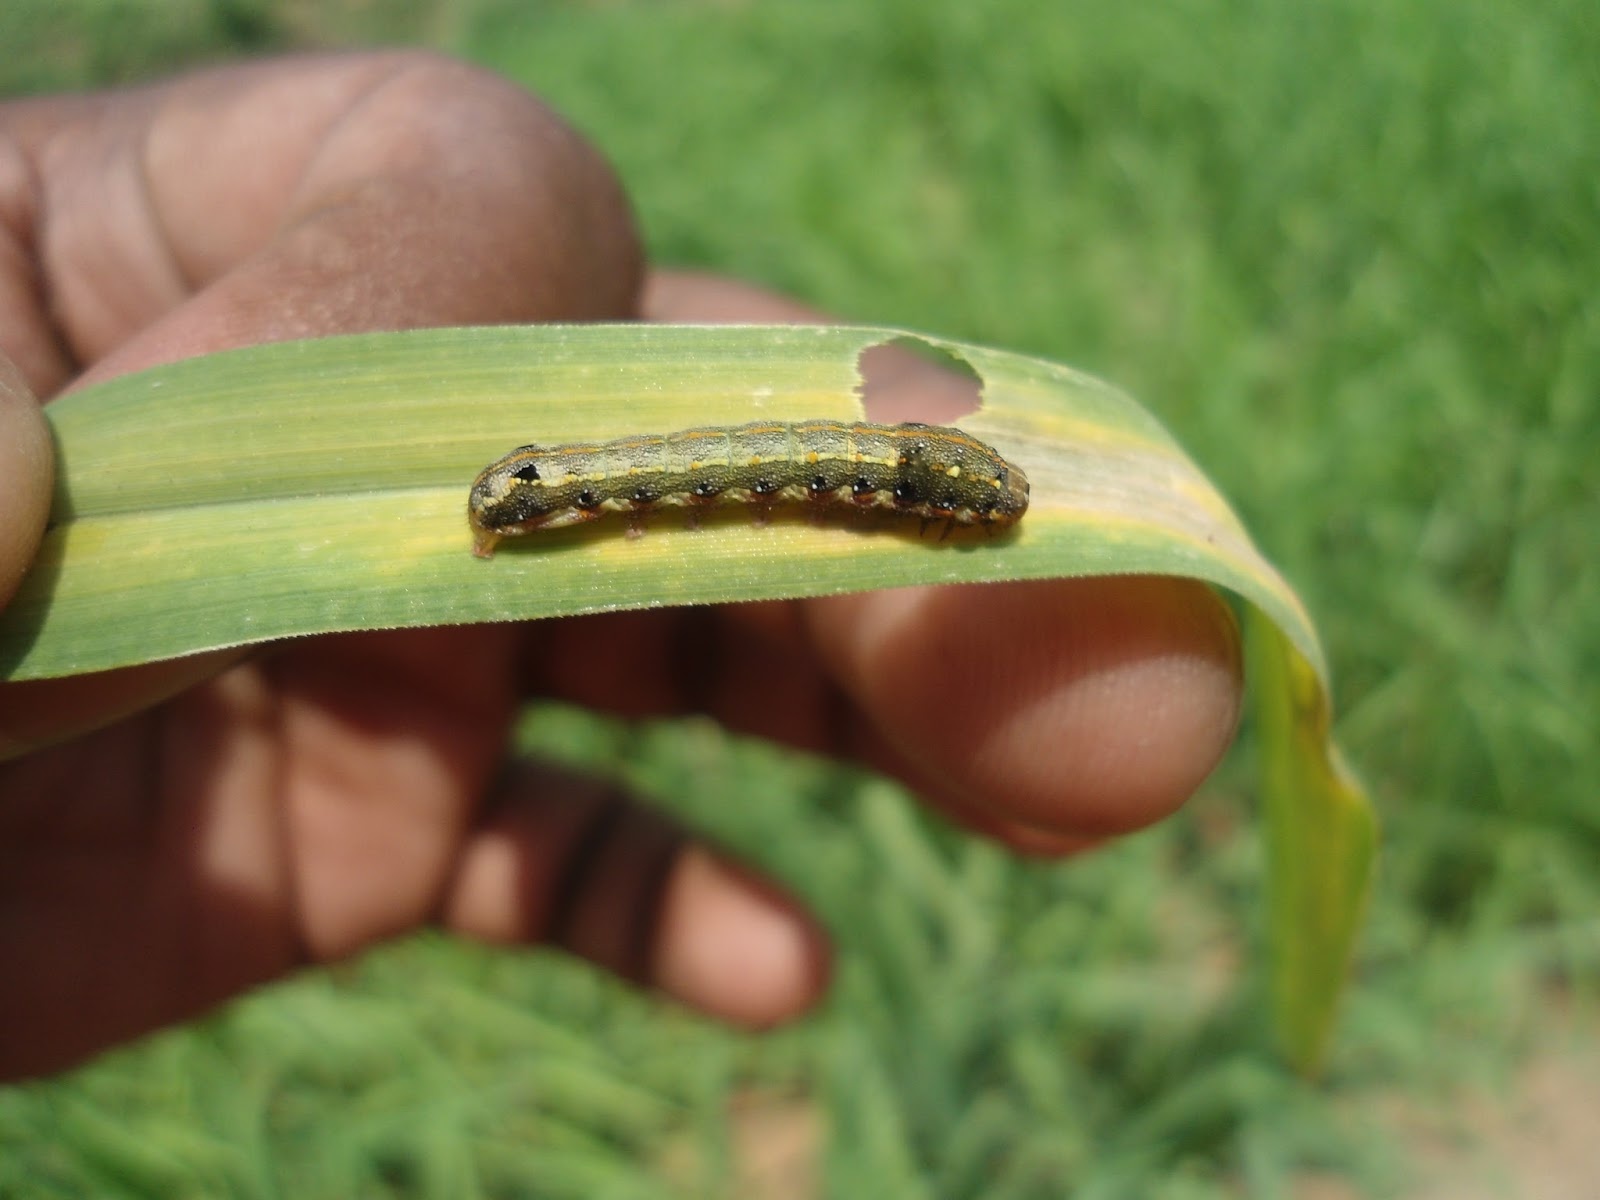Armyworm: (439, 395, 1018, 584)
